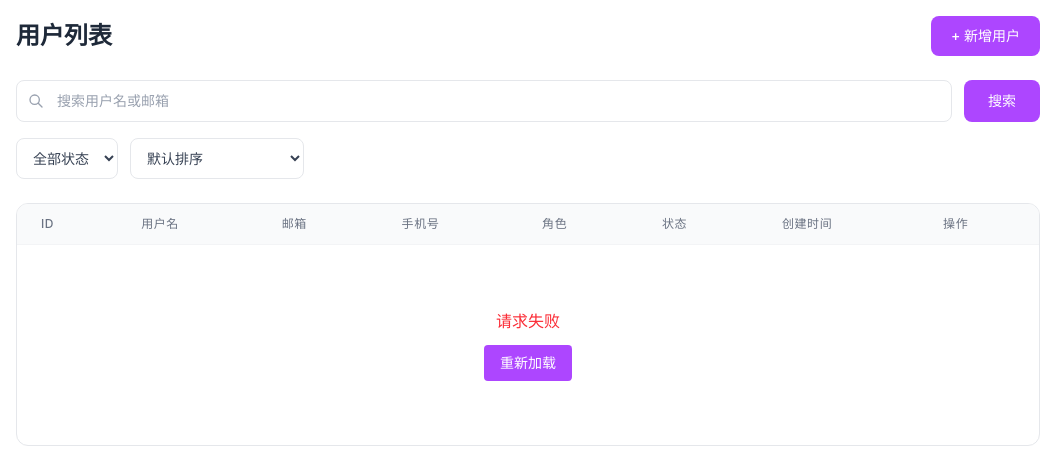
Scenario: UserListPage — 搜索逻辑 › API 报错处理 › 点击"重新加载"按钮触发重试
Click the button "重新加载".
click(528, 363)  # box [484,345,572,381]
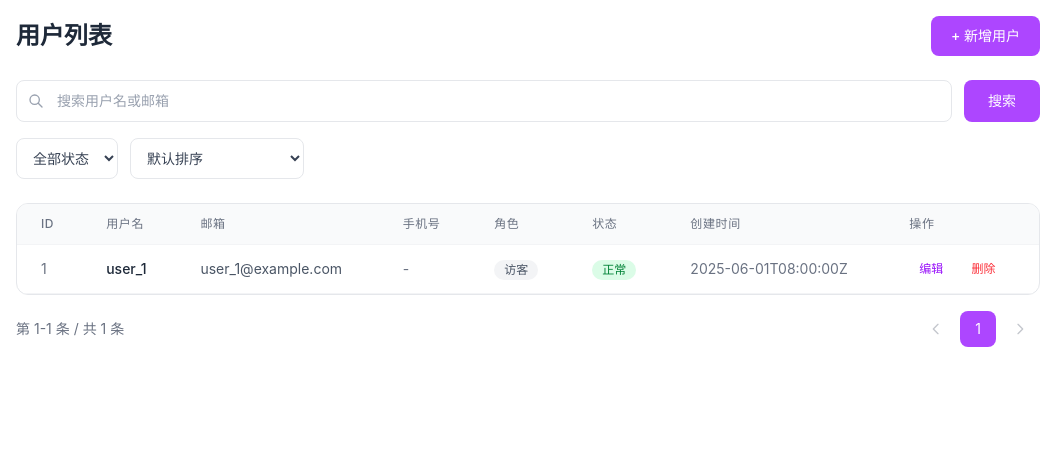
Expected: the text "user_1" is shown, [82,244,176,294]
